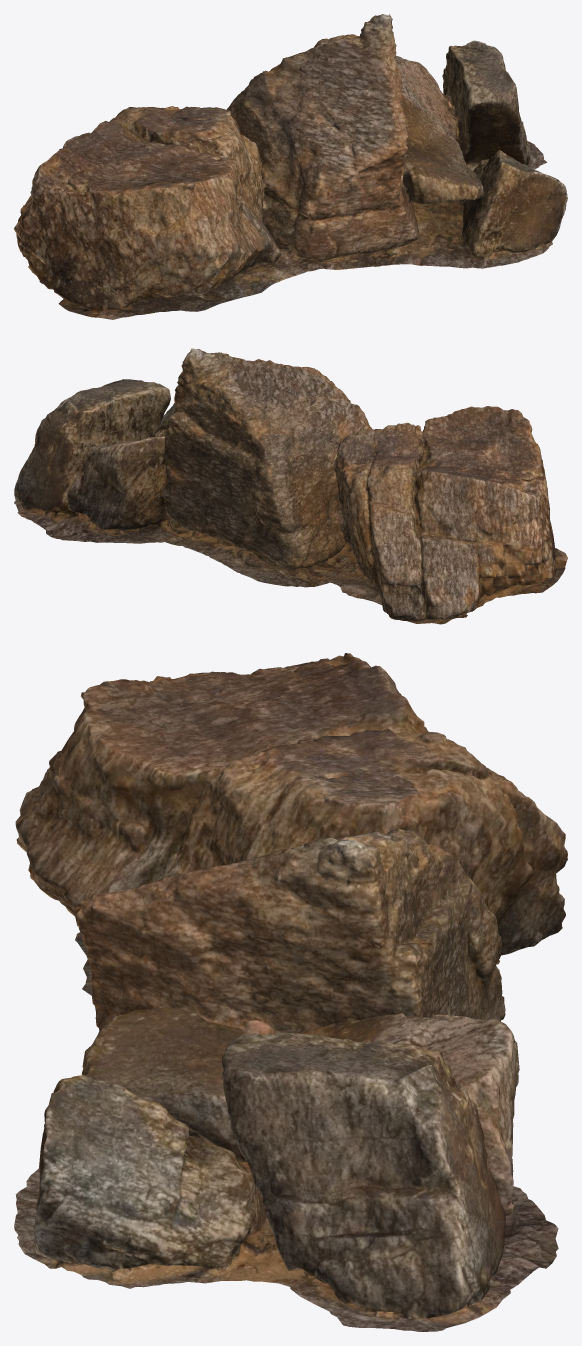
Rendered from namaqualand_boulder_02.glb.
3 renders of one model, top to bottom at view 1: azimuth 30°, elevation 25°; view 2: azimuth 150°, elevation 25°; view 3: azimuth 270°, elevation 25°, orthographic. The views are drawn at different scales.
Parts seen in each view (by area): view 1: boulder_02; view 2: boulder_02; view 3: boulder_02.
Part boxes in pixels (x1,y1,x2,y2): boulder_02: (14, 14, 567, 319); boulder_02: (14, 348, 567, 624); boulder_02: (14, 653, 567, 1331).
Size of the model in its own units: 2.53 by 0.8826 by 1.23.
Materials: 1 (1 with a texture image).
